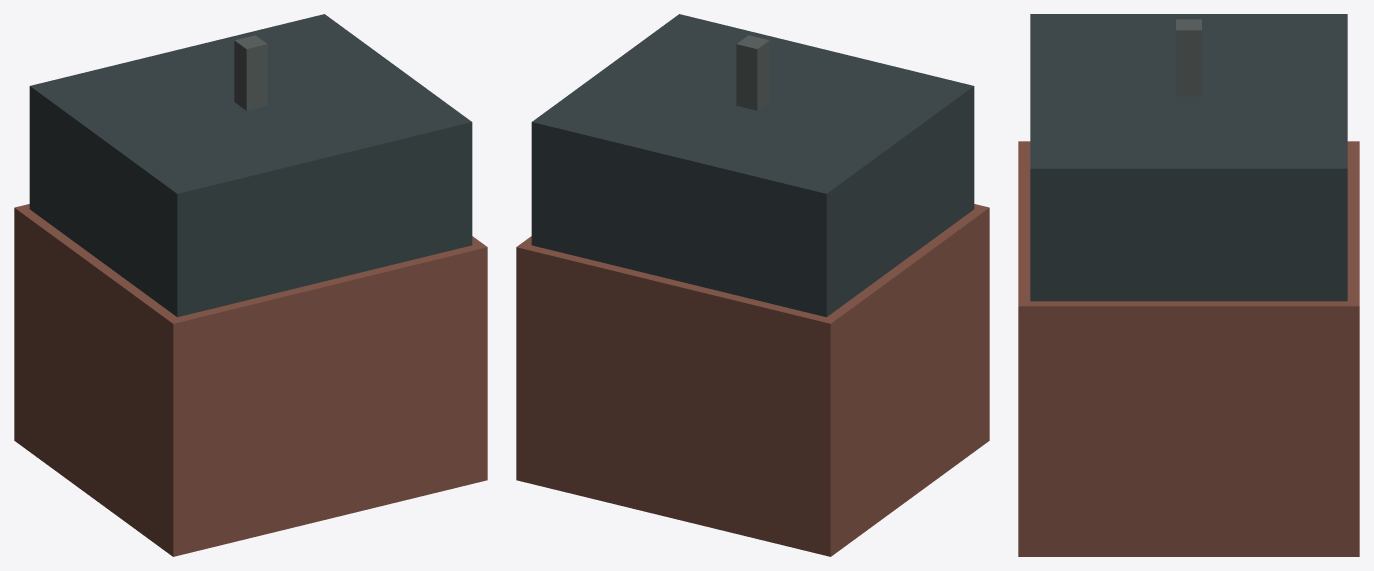
File: ENV_F_GondolaCabin.fbx
3 renders of one model, left to right at view 1: azimuth 30°, elevation 25°; view 2: azimuth 150°, elevation 25°; view 3: azimuth 270°, elevation 25°, orthographic. The views are drawn at different scales.
Visible parts, largest first — view 1: PL_ENV_F_GondolaCabin; view 2: PL_ENV_F_GondolaCabin; view 3: PL_ENV_F_GondolaCabin.
Boxes of the visible parts, x1=… form: PL_ENV_F_GondolaCabin: x1=14, y1=14, x2=487, y2=556; PL_ENV_F_GondolaCabin: x1=516, y1=14, x2=989, y2=556; PL_ENV_F_GondolaCabin: x1=1018, y1=14, x2=1359, y2=556.
Size of the model in its own units: 240 by 305 by 210.
